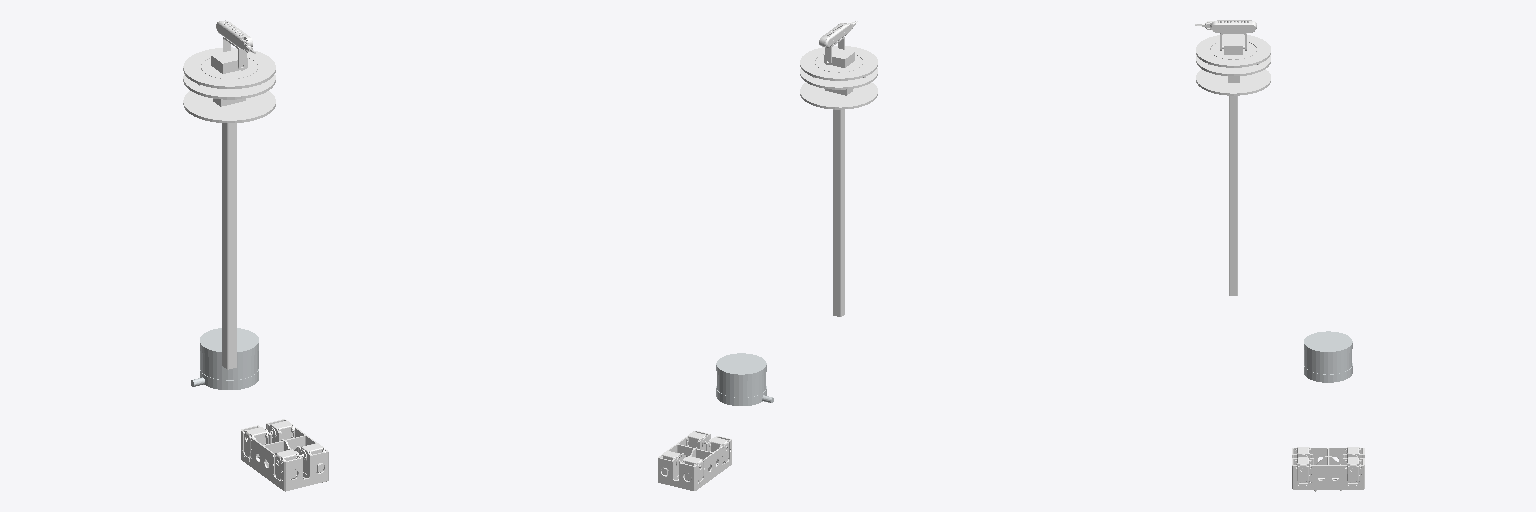
The robot description file, URDF, robot "mobile_platform_controllable_gimbal":
<?xml version="1.0" encoding="utf-8"?>
<!-- This URDF was automatically created by SolidWorks to URDF Exporter! Originally created by [author] ([email redacted])
     Commit Version: 1.6.0-1-g15f4949  Build Version: 1.6.7594.29634
     For more information, please see http://wiki.ros.org/sw_urdf_exporter -->
<robot
  name="mobile_platform_controllable_gimbal">
  <material name="black">
    <color rgba="0.0 0.0 0.0 1.0"/>
  </material>
  <material name="blue">
    <color rgba="0.0 0.0 0.8 1.0"/>
  </material>
  <material name="green">
    <color rgba="0.0 0.8 0.0 1.0"/>
  </material>
  <material name="grey">
    <color rgba="0.2 0.2 0.2 1.0"/>
  </material>
  <material name="orange">
    <color rgba="1.0 0.423529411765 0.0392156862745 1.0"/>
  </material>
  <material name="brown">
    <color rgba="0.870588235294 0.811764705882 0.764705882353 1.0"/>
  </material>
  <material name="red">
    <color rgba="0.8 0.0 0.0 1.0"/>
  </material>
  <material name="white">
    <color rgba="1.0 1.0 1.0 1.0"/>
  </material>
  <material name="Beige">
    <color rgba="1.0 0.784 0.5765 1.0"/>
  </material>
  <link name="root">
    <inertial>
      <mass value="1"/>
      <inertia ixx="0.04" ixy="0.00" ixz="0.00" iyy="0.04" iyz="0.00" izz="0.02"/>
    </inertial>
  </link>
  <link name="mobile_link_1">
  </link>
  <link name="mobile_link_2">
  </link>
  <joint name="root_x_axis_joint" type="prismatic">
    <parent link="root"/>
    <child link="mobile_link_1"/>
    <axis xyz="1 0 0"/>
    <limit lower="-10" upper="10" velocity="0.50"/>
    <dynamics damping="10.0" friction="10"/>
  </joint>
  <joint name="root_y_axis_joint" type="prismatic">
    <parent link="mobile_link_1"/>
    <child link="mobile_link_2"/>
    <axis xyz="0 1 0"/>
    <limit lower="-10" upper="10" velocity="0.50"/>
    <dynamics damping="10.0" friction="10"/>
  </joint>
  <joint name="root_z_rotation_joint" type="continuous">
    <parent link="mobile_link_2"/>
    <child link="base_link"/>
    <axis xyz="0 0 1"/>
    <dynamics damping="10.0" friction="1"/>
  </joint>
  <link
    name="base_link">
    <inertial>
      <origin
        xyz="-0.0341950059245064 -0.000488202669057205 -0.023484876962622"
        rpy="0 0 0" />
      <mass
        value="40.9486107084908" />
      <inertia
        ixx="0.614175745536508"
        ixy="-0.00029161014956335"
        ixz="0.00349696614970323"
        iyy="0.585385929134616"
        iyz="0.00393630741003468"
        izz="1.14116882796746" />
    </inertial>
    <visual>
      <origin
        xyz="0 0 0"
        rpy="0 0 0" />
      <geometry>
        <mesh
          filename="xmate3_description/meshes/base_link.STL" />
      </geometry>
      <material
        name="">
        <color
          rgba="1 1 1 1" />
      </material>
    </visual>
    <collision>
      <origin
        xyz="0 0 0"
        rpy="0 0 0" />
      <geometry>
        <mesh
          filename="xmate3_description/meshes/base_link.STL" />
      </geometry>
    </collision>
  </link>
  <link
    name="velodyne">
    <inertial>
      <origin
        xyz="-0.000287261593383881 -1.71282553980455E-06 -0.00210508552484484"
        rpy="0 0 0" />
      <mass
        value="1.59564547671227" />
      <inertia
        ixx="0.00173425514736997"
        ixy="9.47838989708527E-10"
        ixz="-1.3496082303702E-05"
        iyy="0.00176389158236456"
        iyz="-9.004773487459E-08"
        izz="0.00210570589727052" />
    </inertial>
    <visual>
      <origin
        xyz="0 0 0"
        rpy="0 0 0" />
      <geometry>
        <mesh
          filename="xmate3_description/meshes/velodyne.STL" />
      </geometry>
      <material
        name="">
        <color
          rgba="0.898039215686275 0.917647058823529 0.929411764705882 1" />
      </material>
    </visual>
    <collision>
      <origin
        xyz="0 0 0"
        rpy="0 0 0" />
      <geometry>
        <mesh
          filename="xmate3_description/meshes/velodyne.STL" />
      </geometry>
    </collision>
  </link>
  <joint
    name="velodyne_joint"
    type="fixed">
    <origin
      xyz="-0.11 0 0.2388"
      rpy="0 0 0" />
    <parent
      link="base_link" />
    <child
      link="velodyne" />
    <axis
      xyz="0 0 0" />
  </joint>
  <link
    name="gimbal_base">
    <inertial>
      <origin
        xyz="0 -2.77555756156289E-17 -0.072001781384442"
        rpy="0 0 0" />
      <mass
        value="0.509564966854981" />
      <inertia
        ixx="0.00460691407459133"
        ixy="4.15635367174835E-19"
        ixz="-1.18148517933091E-18"
        iyy="0.00461472657459133"
        iyz="3.67390006628001E-19"
        izz="0.000946833044910318" />
    </inertial>
    <visual>
      <origin
        xyz="0 0 0"
        rpy="0 0 0" />
      <geometry>
        <mesh
          filename="xmate3_description/meshes/gimbal_base.STL" />
      </geometry>
      <material
        name="">
        <color
          rgba="1 1 1 1" />
      </material>
    </visual>
    <collision>
      <origin
        xyz="0 0 0"
        rpy="0 0 0" />
      <geometry>
        <mesh
          filename="xmate3_description/meshes/gimbal_base.STL" />
      </geometry>
    </collision>
  </link>
  <joint
    name="gimbal_base_joint"
    type="fixed">
    <origin
      xyz="-0.225 -0.2 0.83"
      rpy="0 0 0" />
    <parent
      link="base_link" />
    <child
      link="gimbal_base" />
    <axis
      xyz="0 0 0" />
  </joint>
  <link
    name="gimbal_yaw">
    <inertial>
      <origin
        xyz="2.50753308603247E-05 0 0.00389164940243814"
        rpy="0 0 0" />
      <mass
        value="0.0783038684288936" />
      <inertia
        ixx="3.25784849998099E-05"
        ixy="-3.24641951102788E-22"
        ixz="-1.19937183517807E-08"
        iyy="3.5498566498157E-05"
        iyz="-2.46038653698381E-22"
        izz="5.90679201142496E-05" />
    </inertial>
    <visual>
      <origin
        xyz="0 0 0"
        rpy="0 0 0" />
      <geometry>
        <mesh
          filename="xmate3_description/meshes/gimbal_yaw.STL" />
      </geometry>
      <material
        name="">
        <color
          rgba="1 1 1 1" />
      </material>
    </visual>
    <collision>
      <origin
        xyz="0 0 0"
        rpy="0 0 0" />
      <geometry>
        <mesh
          filename="xmate3_description/meshes/gimbal_yaw.STL" />
      </geometry>
    </collision>
  </link>
  <joint
    name="gimbal_yaw_joint"
    type="revolute">
    <origin
      xyz="0 0 0.07"
      rpy="0 0 0" />
    <parent
      link="gimbal_base" />
    <child
      link="gimbal_yaw" />
    <axis
      xyz="0 0 1" />
    <limit
      lower="-3.1416"
      upper="3.1416"
      effort="1"
      velocity="10" />
  </joint>
  <link
    name="gimbal_pitch">
    <inertial>
      <origin
        xyz="0.0230991288595745 -2.77555756156289E-17 0"
        rpy="0 0 0" />
      <mass
        value="0.00629053213386462" />
      <inertia
        ixx="3.42802231918139E-06"
        ixy="2.36055740704576E-21"
        ixz="-8.87662821812963E-23"
        iyy="1.30341273174401E-06"
        iyz="8.73092983177933E-23"
        izz="4.4594233809342E-06" />
    </inertial>
    <visual>
      <origin
        xyz="0 0 0"
        rpy="0 0 0" />
      <geometry>
        <mesh
          filename="xmate3_description/meshes/gimbal_pitch.STL" />
      </geometry>
      <material
        name="">
        <color
          rgba="1 1 1 1" />
      </material>
    </visual>
    <collision>
      <origin
        xyz="0 0 0"
        rpy="0 0 0" />
      <geometry>
        <mesh
          filename="xmate3_description/meshes/gimbal_pitch.STL" />
      </geometry>
    </collision>
  </link>
  <joint
    name="gimbal_pitch_joint"
    type="revolute">
    <origin
      xyz="0.01 0 0.01"
      rpy="0 -1.5708 0" />
    <parent
      link="gimbal_yaw" />
    <child
      link="gimbal_pitch" />
    <axis
      xyz="0 1 0" />
    <limit
      lower="-1.5708"
      upper="1.5708"
      effort="1"
      velocity="10" />
  </joint>
  <link
    name="realsense">
    <inertial>
      <origin
        xyz="-0.00148582713460665 -0.00537331155862492 0.0114430980390411"
        rpy="0 0 0" />
      <mass
        value="0.0346937941885999" />
      <inertia
        ixx="2.24677046023847E-05"
        ixy="2.74694997947627E-07"
        ixz="7.68563645568261E-11"
        iyy="1.45075356803183E-06"
        iyz="1.67781904213168E-09"
        izz="2.14371832325338E-05" />
    </inertial>
    <visual>
      <origin
        xyz="0 0 0"
        rpy="0 0 0" />
      <geometry>
        <mesh
          filename="xmate3_description/meshes/realsense.STL" />
      </geometry>
      <material
        name="">
        <color
          rgba="1 1 1 1" />
      </material>
    </visual>
    <collision>
      <origin
        xyz="0 0 0"
        rpy="0 0 0" />
      <geometry>
        <mesh
          filename="xmate3_description/meshes/realsense.STL" />
      </geometry>
    </collision>
  </link>
  <joint
    name="realsense_joint"
    type="fixed">
    <origin
      xyz="0.037 0 0"
      rpy="0 1.5708 0" />
    <parent
      link="gimbal_pitch" />
    <child
      link="realsense" />
    <axis
      xyz="0 0 0" />
  </joint>
  
</robot>

--- Facts derived from the render (not from the file) ---
3 views of the same robot in one strip: view 1: azimuth 30°, elevation 25°; view 2: azimuth 150°, elevation 25°; view 3: azimuth 270°, elevation 25° (orthographic).
Model mobile_platform_controllable_gimbal with 9 links and 8 joints (2 revolute, 1 continuous, 2 prismatic, 3 fixed), rooted at root, posed all joints at 0.
Visible links, largest first — view 1: gimbal_base, base_link, velodyne, gimbal_yaw, realsense; view 2: gimbal_base, base_link, velodyne, gimbal_yaw; view 3: gimbal_base, base_link, velodyne, gimbal_yaw, realsense.
Boxes of the visible links, left/top/right/bottom form: gimbal_base: left=183, top=47, right=275, bottom=369; base_link: left=241, top=419, right=328, bottom=491; velodyne: left=191, top=328, right=258, bottom=389; gimbal_yaw: left=201, top=49, right=257, bottom=78; realsense: left=216, top=20, right=255, bottom=53; gimbal_base: left=800, top=46, right=877, bottom=316; base_link: left=658, top=431, right=731, bottom=490; velodyne: left=716, top=353, right=773, bottom=405; gimbal_yaw: left=815, top=47, right=862, bottom=72; gimbal_base: left=1196, top=34, right=1270, bottom=295; base_link: left=1292, top=447, right=1364, bottom=491; velodyne: left=1304, top=331, right=1352, bottom=382; gimbal_yaw: left=1211, top=36, right=1256, bottom=59; realsense: left=1195, top=20, right=1256, bottom=32.
Bounding box of the posed robot: 0.3507 × 0.358 × 0.9867 m (x, y, z).
6 mesh visuals loaded from 6 distinct referenced files (6 binary STL).